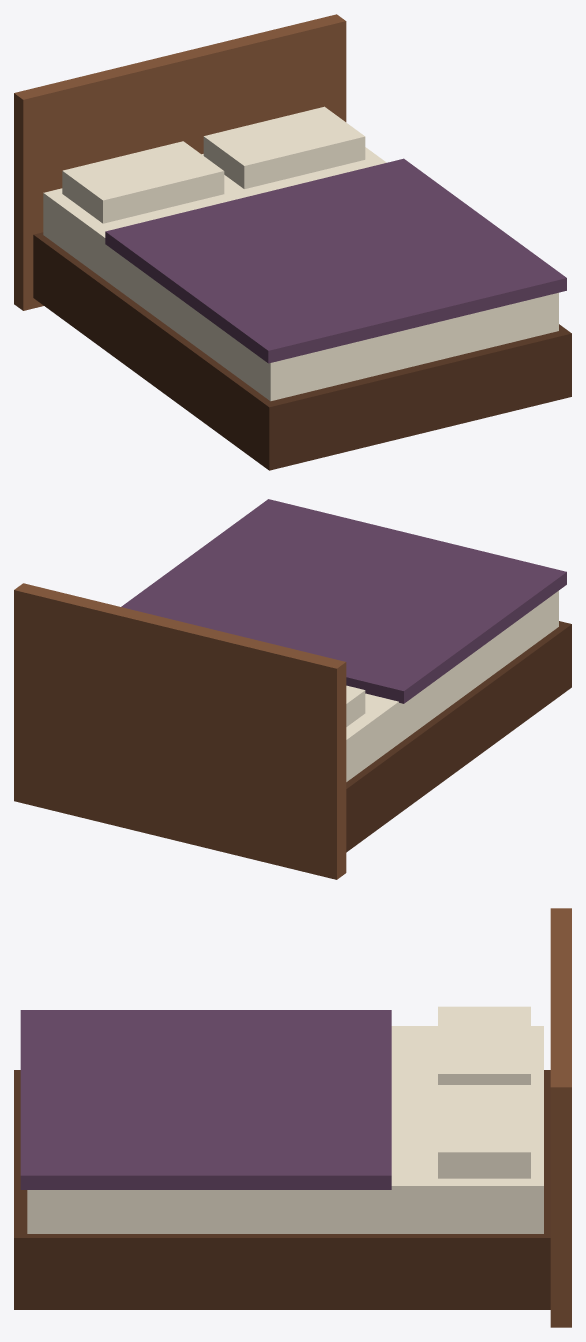
Rendered from parents_bed.glb.
3 views of the same model, one above another, from view 1: azimuth 30°, elevation 25°; view 2: azimuth 150°, elevation 25°; view 3: azimuth 270°, elevation 25° (orthographic). The views are drawn at different scales.
Visible parts, largest first — view 1: Box3, Box1, Box6, Box2, Box4, Box5; view 2: Box6, Box3, Box1, Box2, Box4; view 3: Box3, Box1, Box2, Box6, Box5, Box4.
Boxes of the visible parts, <box> form: Box3: <box>105,158,566,363</box>; Box1: <box>33,232,571,470</box>; Box6: <box>14,14,346,310</box>; Box2: <box>43,147,558,401</box>; Box4: <box>62,141,224,223</box>; Box5: <box>203,106,365,189</box>; Box6: <box>14,583,346,879</box>; Box3: <box>121,499,566,703</box>; Box1: <box>346,621,571,852</box>; Box2: <box>346,590,558,781</box>; Box4: <box>346,685,365,726</box>; Box3: <box>20,1010,391,1189</box>; Box1: <box>14,1070,550,1309</box>; Box2: <box>27,1026,543,1233</box>; Box6: <box>550,908,571,1327</box>; Box5: <box>438,1085,530,1178</box>; Box4: <box>438,1006,530,1084</box>.
Size of the model in its own units: 1.6 by 1 by 2.1.
